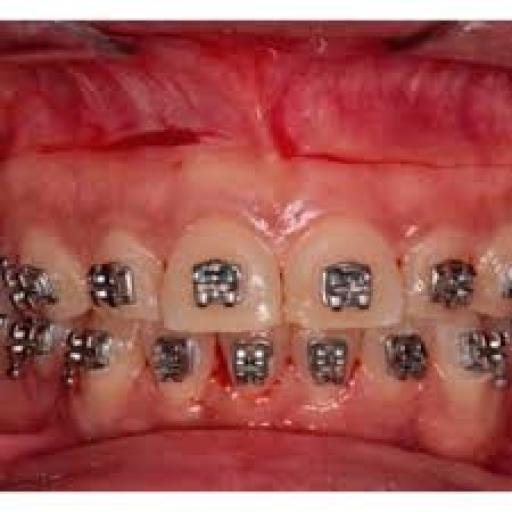correct_brace: (315, 256, 385, 315), (180, 254, 252, 310)
